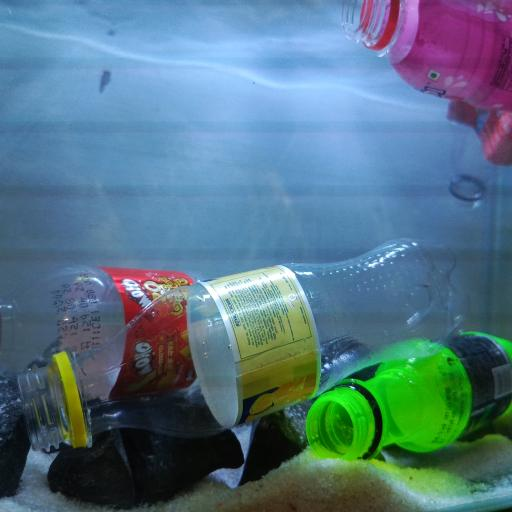plastic_bottle: (16, 236, 466, 454), (0, 266, 213, 406), (304, 328, 512, 462), (341, 0, 512, 111), (447, 99, 512, 210)
